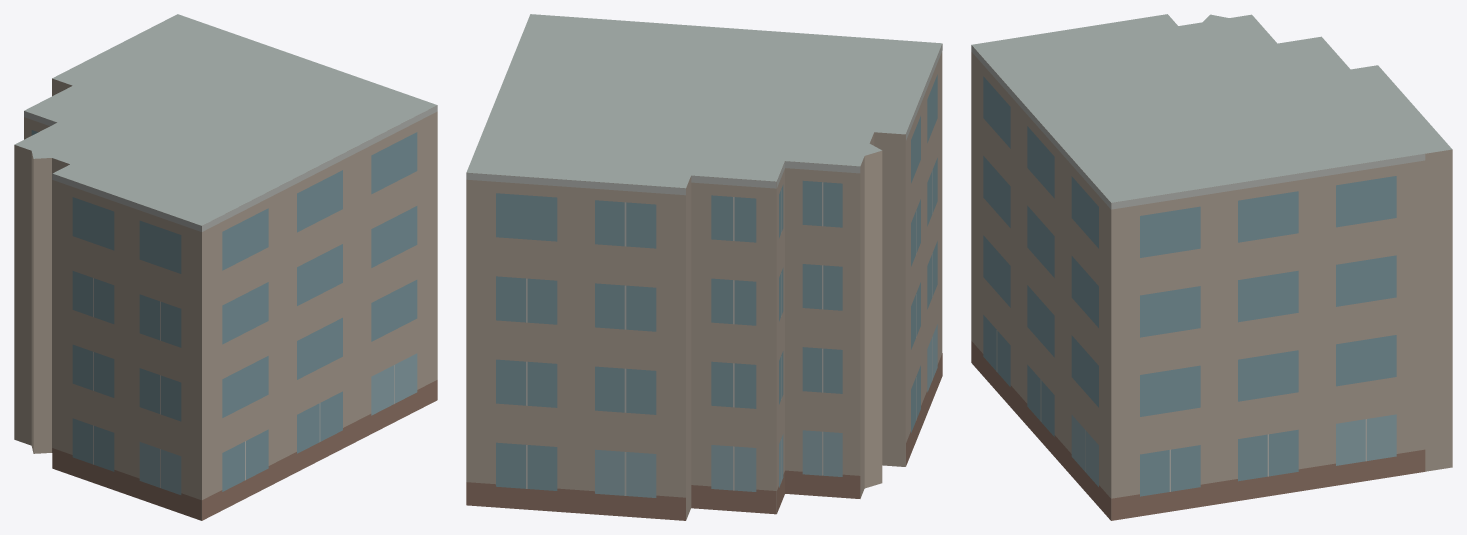
File: survey-upis-32861988.glb
The picture shows the model from 3 angles, left to right: view 1: azimuth 30°, elevation 25°; view 2: azimuth 150°, elevation 25°; view 3: azimuth 270°, elevation 25°; orthographic projection. The views are drawn at different scales.
Parts seen in each view (by area): view 1: survey-upis-32861988.tmp; view 2: survey-upis-32861988.tmp; view 3: survey-upis-32861988.tmp.
Part boxes in pixels (x1,y1,x2,y2): survey-upis-32861988.tmp: (14,14,437,520); survey-upis-32861988.tmp: (466,14,942,520); survey-upis-32861988.tmp: (971,14,1452,520).
Size of the model in its own units: 14.66 by 11.5 by 15.78.
